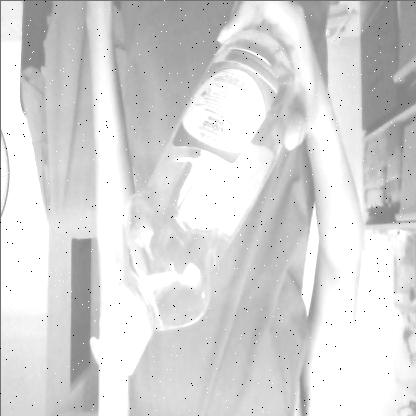Plastic Bottle: (88, 22, 300, 388)
